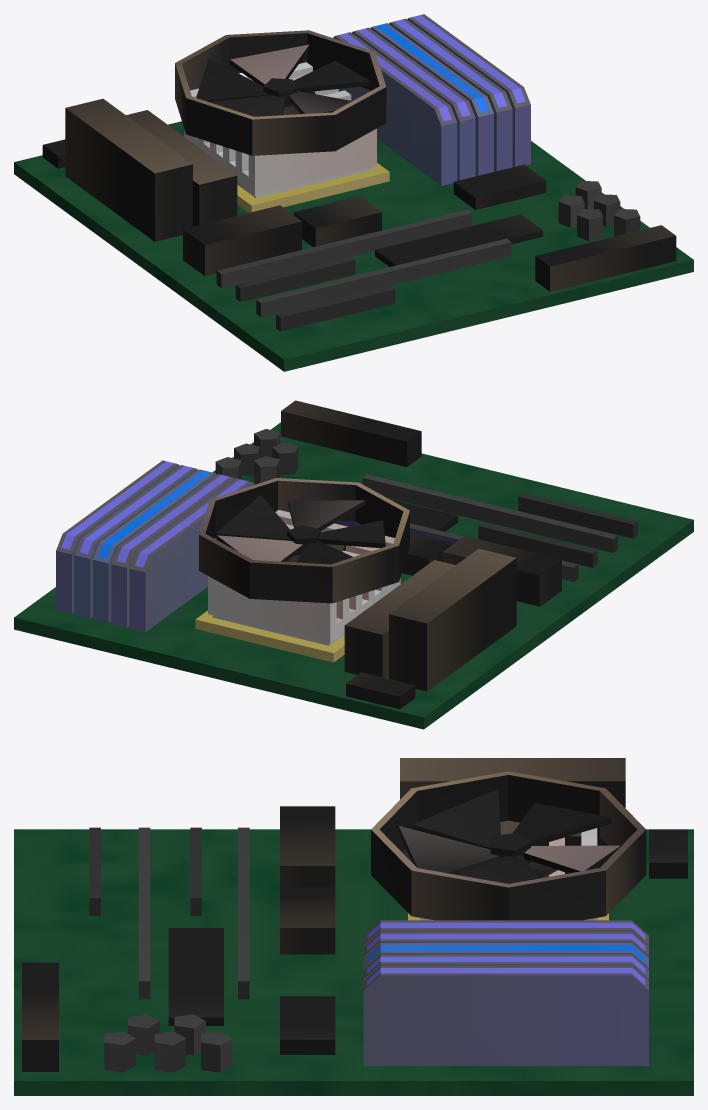
Rendered from PowerLvl3.fbx.
The picture shows the model from 3 angles, top to bottom: view 1: azimuth 30°, elevation 25°; view 2: azimuth 150°, elevation 25°; view 3: azimuth 270°, elevation 25°; orthographic projection. The views are drawn at different scales.
Visible parts, largest first — view 1: power_lvl3; view 2: power_lvl3; view 3: power_lvl3.
Part boxes in pixels (x1,y1,x2,y2): power_lvl3: [14, 14, 693, 371]; power_lvl3: [14, 400, 693, 729]; power_lvl3: [14, 758, 693, 1095].
Bounding box in the file's own units: 0.445 × 0.11 × 0.5081.
